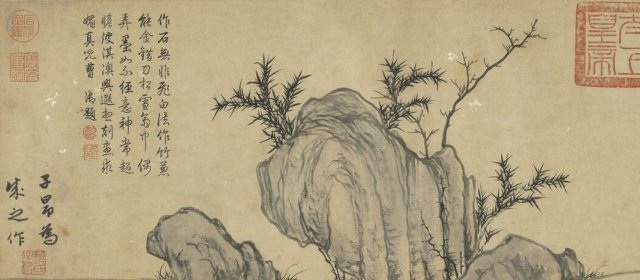bamboo: (467, 151, 570, 242), (202, 58, 301, 142), (371, 54, 432, 131)
hill: (135, 87, 601, 280)
